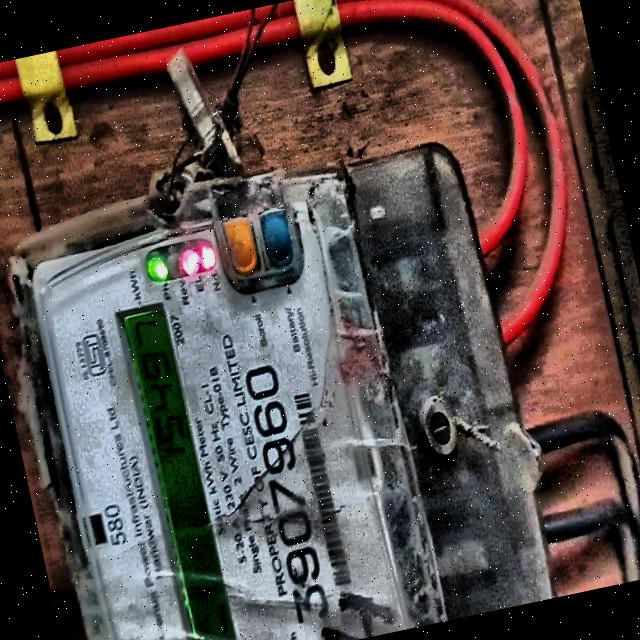Digital: (0, 142, 553, 640)
Reading: (130, 309, 193, 466)
Serial No.: (242, 362, 332, 624)
